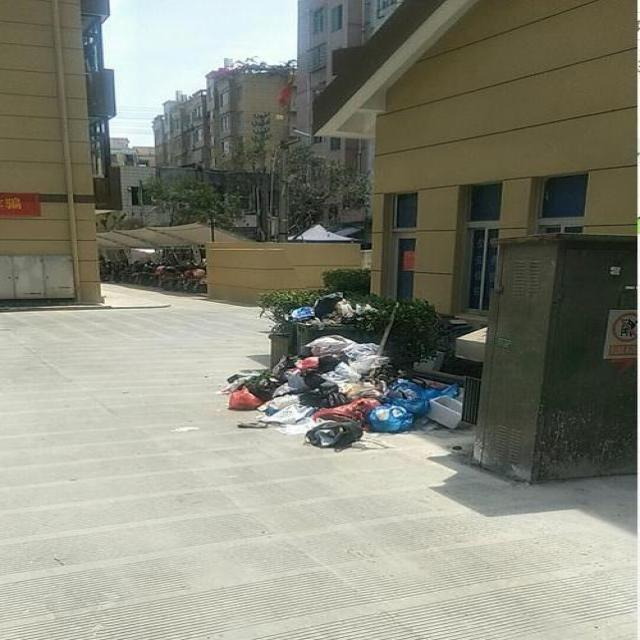garbage: (215, 294, 462, 448)
